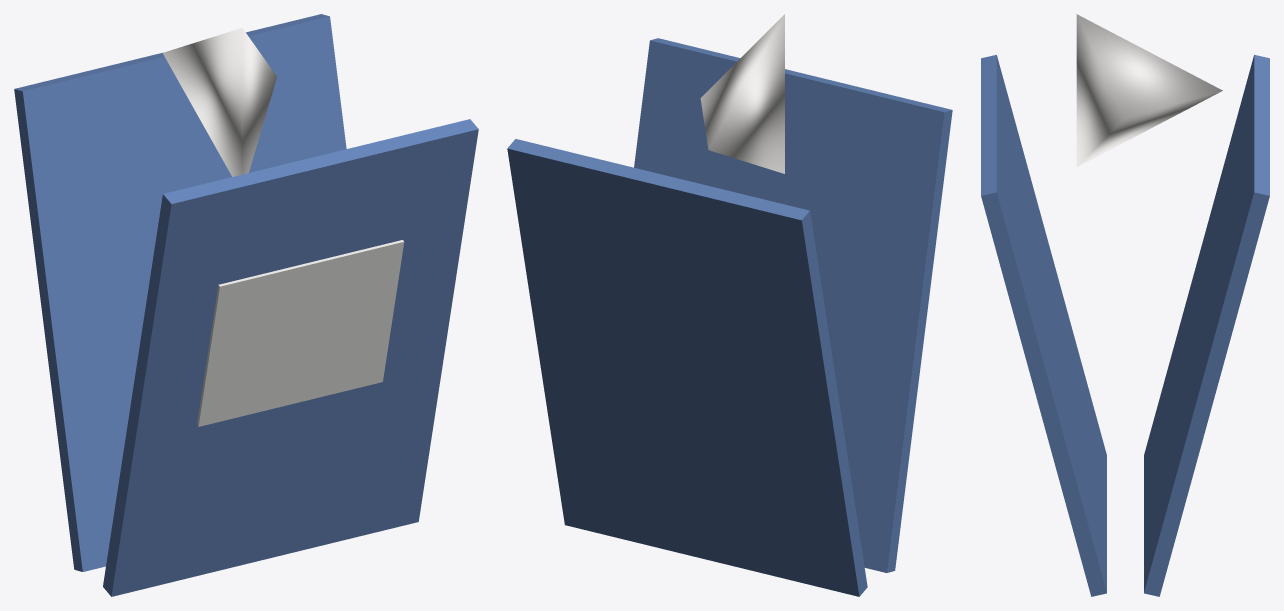
Rendered from prop_tate_triangle_blue.glb.
The picture shows the model from 3 angles, left to right: view 1: azimuth 30°, elevation 25°; view 2: azimuth 150°, elevation 25°; view 3: azimuth 270°, elevation 25°; orthographic projection. The views are drawn at different scales.
Visible parts, largest first — view 1: tate_triangle_blue; view 2: tate_triangle_blue; view 3: tate_triangle_blue.
Part boxes in pixels (<box>): tate_triangle_blue: <box>14,14,478,596</box>; tate_triangle_blue: <box>507,14,952,596</box>; tate_triangle_blue: <box>981,14,1269,596</box>.
Bounding box in the file's own units: 1 × 1.7 × 0.8872.
